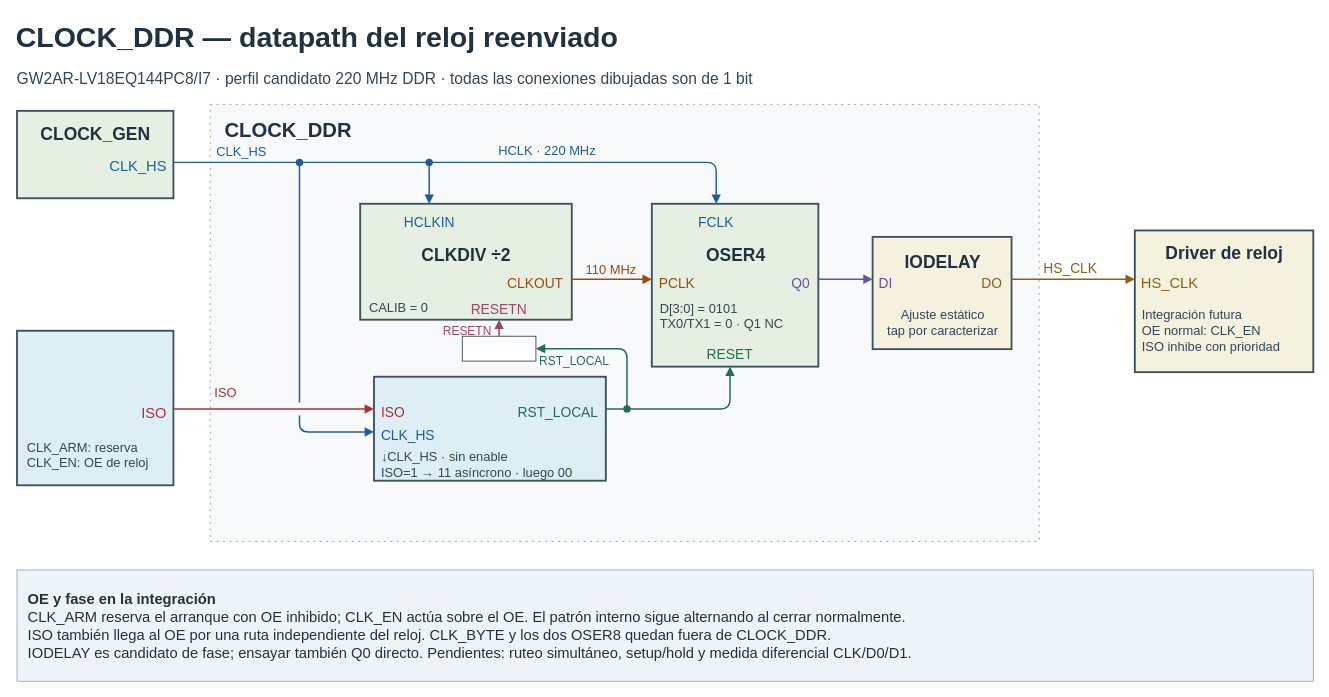
Image size: 1329x697. Some labels were removed from this diagram. Each missing label, with the box of its shape:
NOT: (461, 335, 536, 361)
PHY_CTRL: (16, 329, 174, 486)
RST_HS[1:0]: (373, 375, 606, 481)
